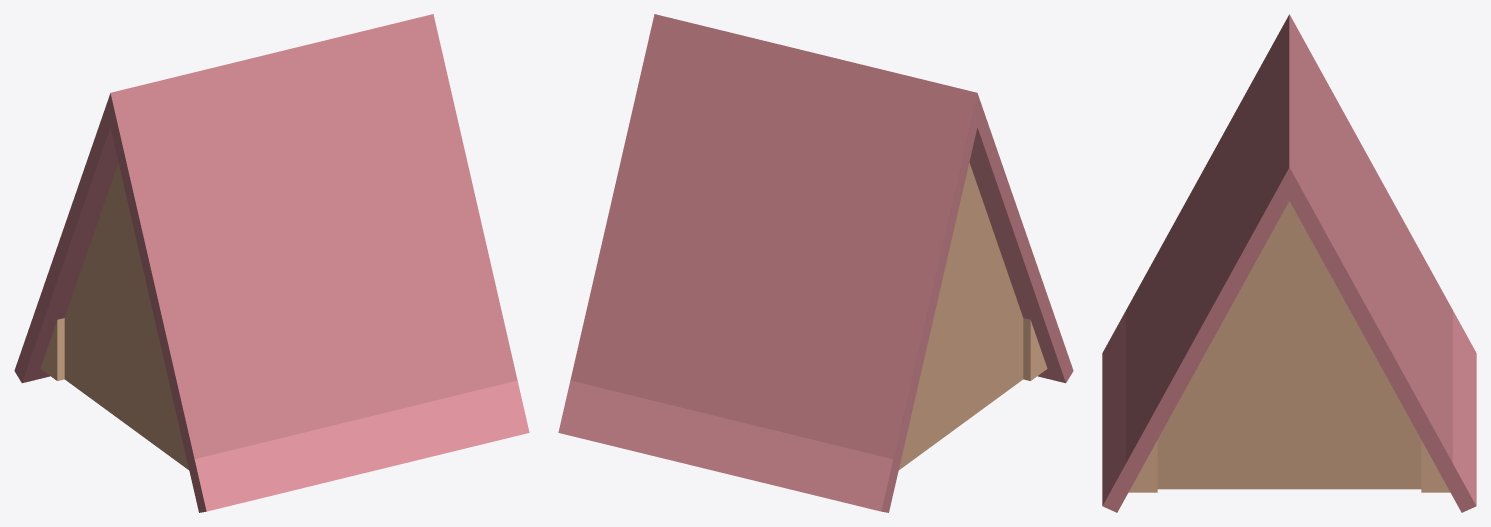
The model's file is roofHighGable.glb.
3 views of the same model, side by side, from view 1: azimuth 30°, elevation 25°; view 2: azimuth 150°, elevation 25°; view 3: azimuth 270°, elevation 25° (orthographic). The views are drawn at different scales.
Visible parts, largest first — view 1: roofHighGable; view 2: roofHighGable; view 3: roofHighGable.
Boxes of the visible parts, x1,y1,x2,y2 form: roofHighGable: (14,14,529,512); roofHighGable: (558,14,1073,512); roofHighGable: (1102,14,1476,512).
Size of the model in its own units: 1.1 by 1.16 by 1.13.
